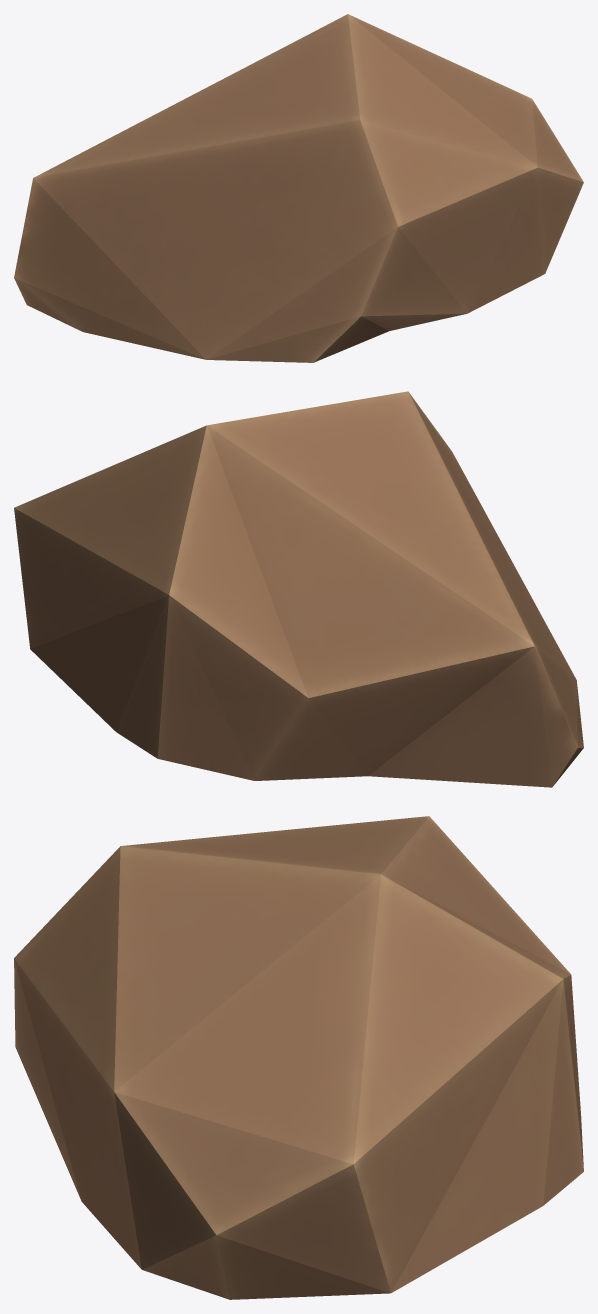
File: Rock_46.fbx
3 renders of one model, top to bottom at view 1: azimuth 30°, elevation 25°; view 2: azimuth 150°, elevation 25°; view 3: azimuth 270°, elevation 25°, orthographic. The views are drawn at different scales.
Parts seen in each view (by area): view 1: Rock_46; view 2: Rock_46; view 3: Rock_46.
Boxes of the visible parts, x1,y1,x2,y2 form: Rock_46: (14, 14, 583, 362); Rock_46: (14, 391, 583, 787); Rock_46: (14, 816, 583, 1299).
Size of the model in its own units: 48.75 by 20.92 by 33.89.
